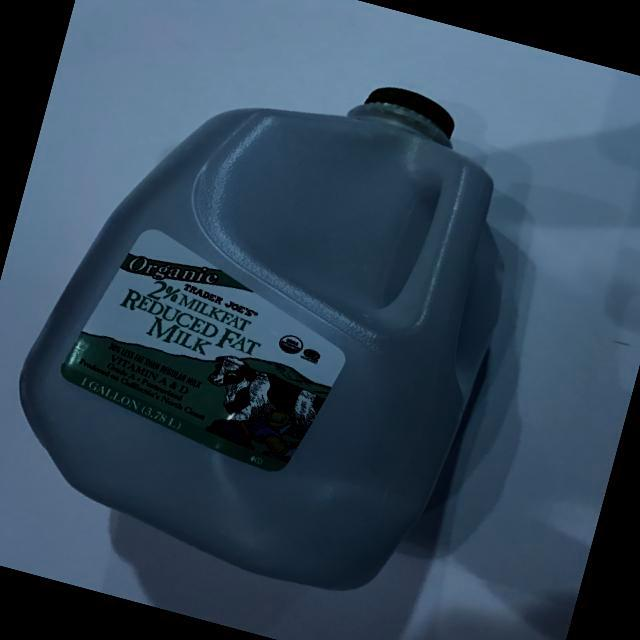plastic: (0, 2, 570, 631)
